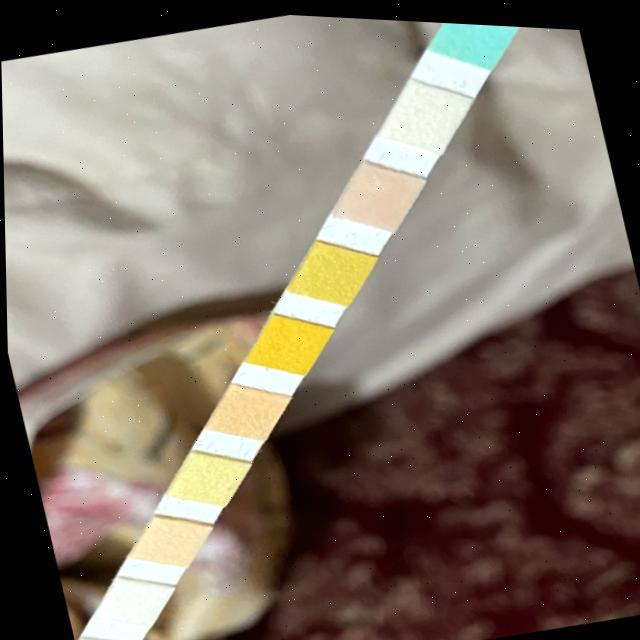Bilirubin: (390, 88, 457, 139)
Blood: (257, 319, 316, 364)
Glucose: (446, 18, 508, 50)
Ketone: (342, 167, 408, 219)
Nitrite: (103, 582, 157, 620)
Protein: (174, 457, 236, 500)
SpGravity: (295, 248, 362, 293)
Urobilinogen: (138, 518, 194, 560)
pH: (214, 388, 276, 431)
